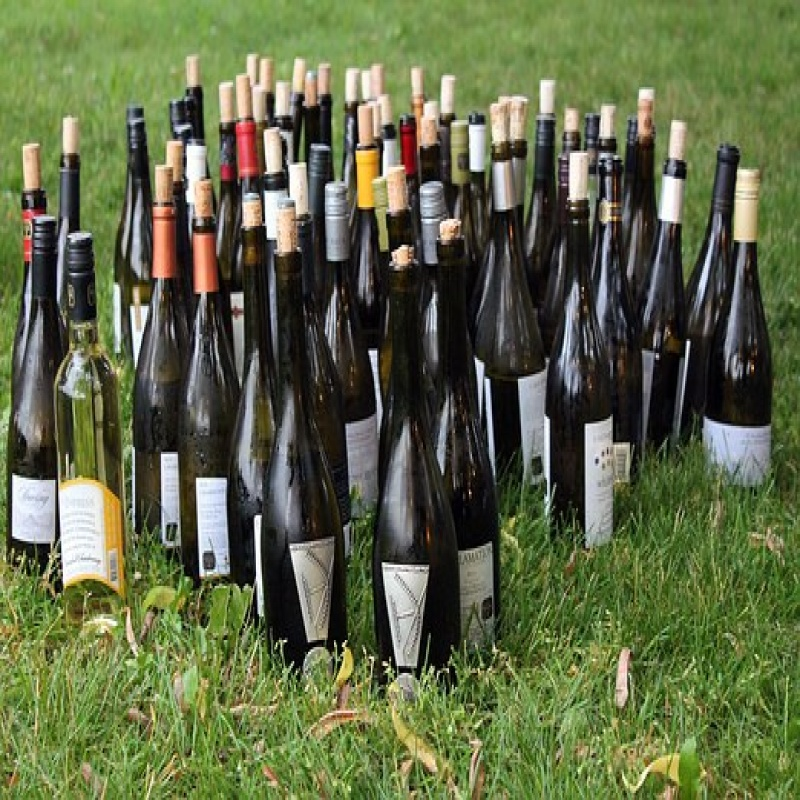wine: (373, 258, 459, 674), (259, 281, 344, 659), (47, 235, 127, 621), (548, 198, 622, 548), (476, 204, 550, 485), (636, 144, 698, 446), (714, 169, 772, 488), (175, 231, 227, 586), (132, 221, 181, 536)
